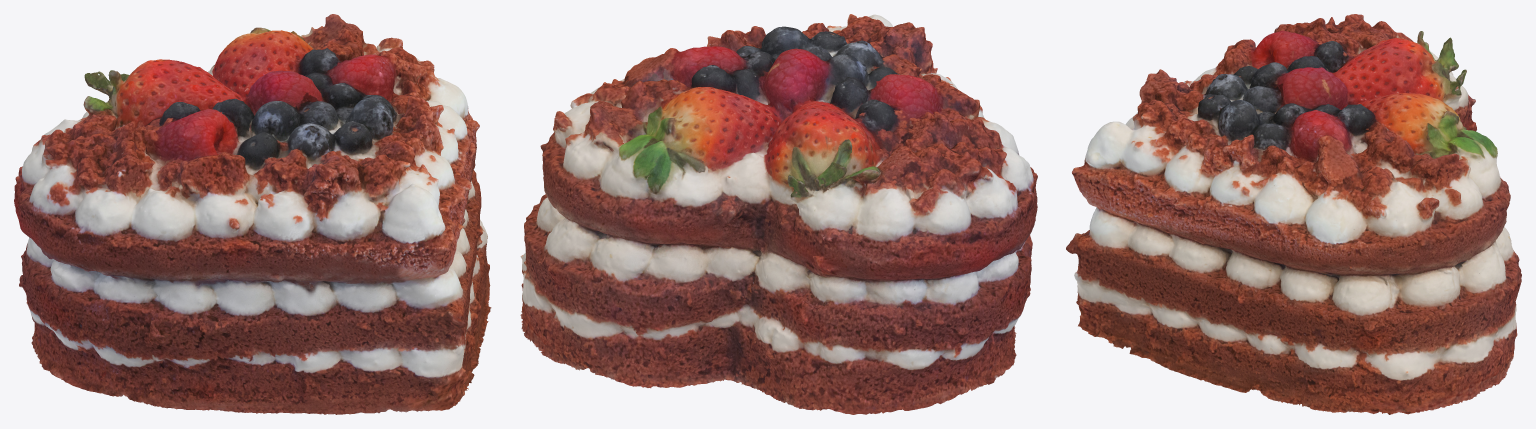
Rendered from red_velvet_cake.glb.
3 views of the same model, side by side, from view 1: azimuth 30°, elevation 25°; view 2: azimuth 150°, elevation 25°; view 3: azimuth 270°, elevation 25° (orthographic). The views are drawn at different scales.
Visible parts, largest first — view 1: Model; view 2: Model; view 3: Model.
Boxes of the visible parts, left/top/right/bottom form: Model: left=14, top=14, right=491, bottom=414; Model: left=520, top=14, right=1037, bottom=414; Model: left=1066, top=14, right=1521, bottom=414.
Bounding box in the file's own units: 2.08 × 1.16 × 1.92.
Materials: 2 (2 with a texture image).
